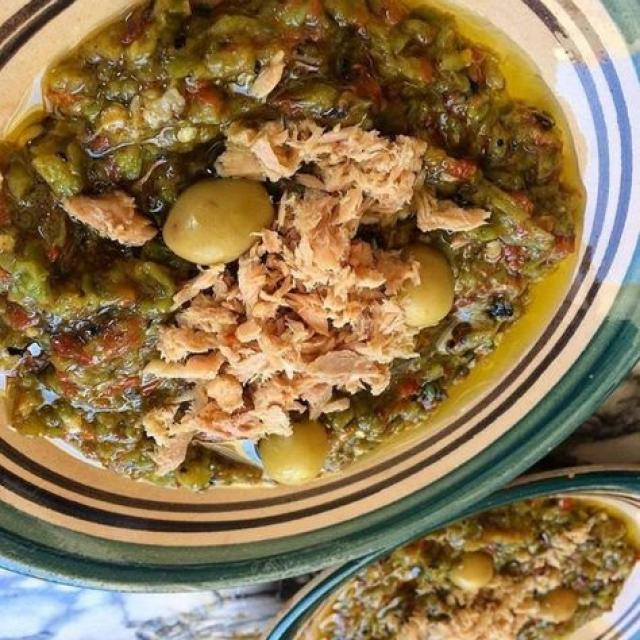Salade mechweya: (0, 0, 640, 522), (258, 512, 640, 640)
